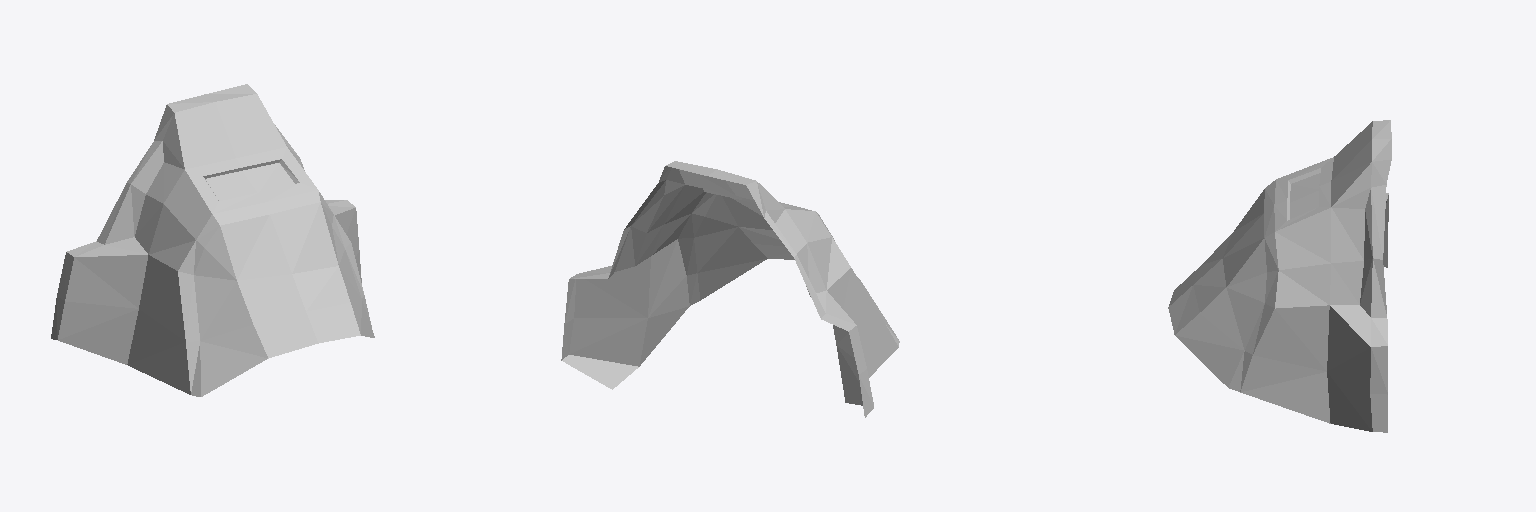
Rendered from X02LeftPawFront.obj.
3 renders of one model, left to right at view 1: azimuth 30°, elevation 25°; view 2: azimuth 150°, elevation 25°; view 3: azimuth 270°, elevation 25°, orthographic.
Parts seen in each view (by area): view 1: CPA; view 2: CPA; view 3: CPA.
Part boxes in pixels (x1,y1,x2,y2): CPA: (51,84,374,396); CPA: (561,161,899,417); CPA: (1168,120,1391,432).
Bounding box in the file's own units: 25.5 × 19.1 × 16.19.